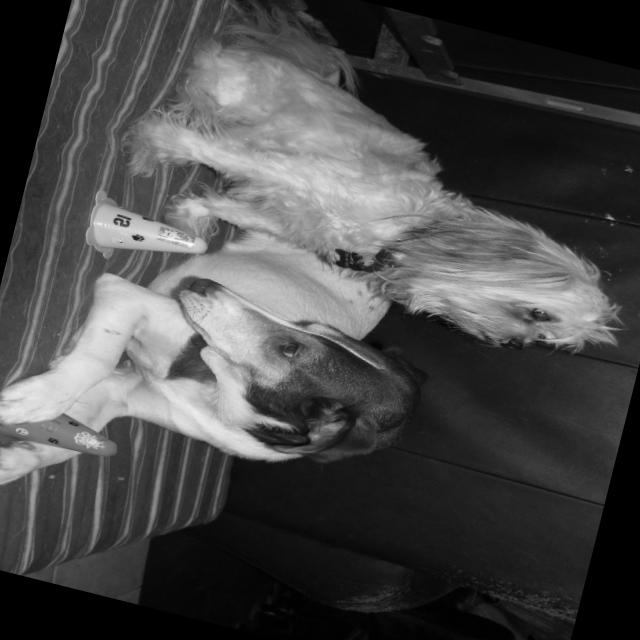laying down: (0, 179, 458, 592)
sitting: (91, 0, 640, 378)
